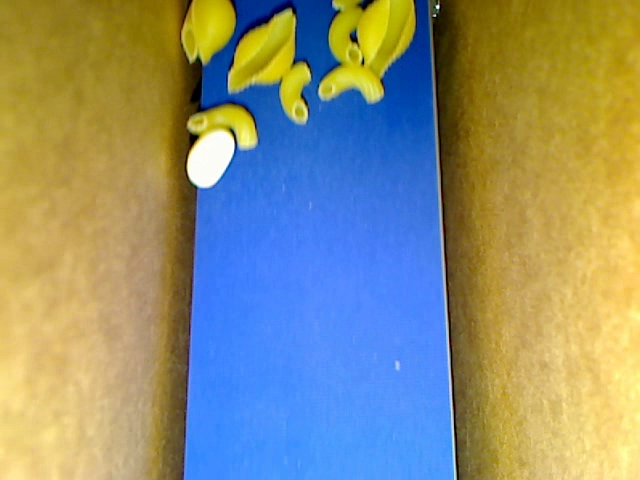elbow: (187, 103, 258, 150), (317, 61, 382, 104), (328, 6, 364, 64), (278, 61, 310, 124)
penne: (180, 1, 197, 64)
shell: (227, 8, 297, 94), (355, 1, 415, 79), (190, 1, 233, 66)
